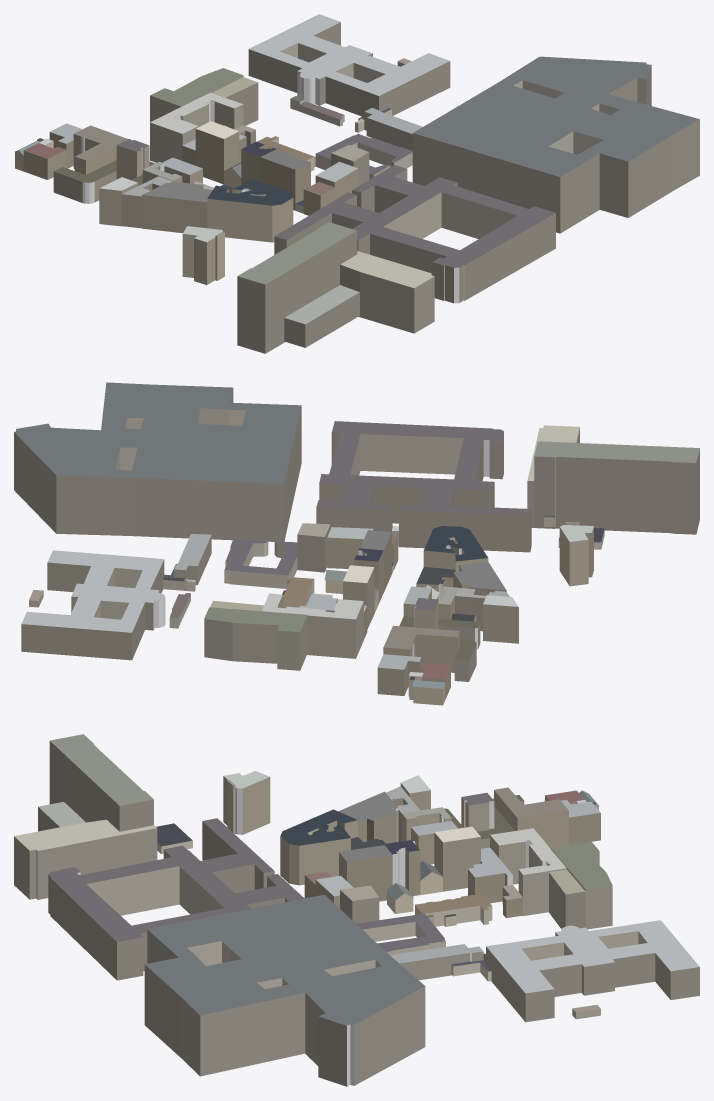
The picture shows the model from 3 angles, top to bottom: view 1: azimuth 30°, elevation 25°; view 2: azimuth 150°, elevation 25°; view 3: azimuth 270°, elevation 25°; orthographic projection. The views are drawn at different scales.
Visible parts, largest first — view 1: tuile; view 2: tuile; view 3: tuile.
Part boxes in pixels (<box>): tuile: <box>15,14,699,353</box>; tuile: <box>14,382,699,705</box>; tuile: <box>14,734,699,1086</box>.
Size of the model in its own units: 302 by 37.22 by 310.
